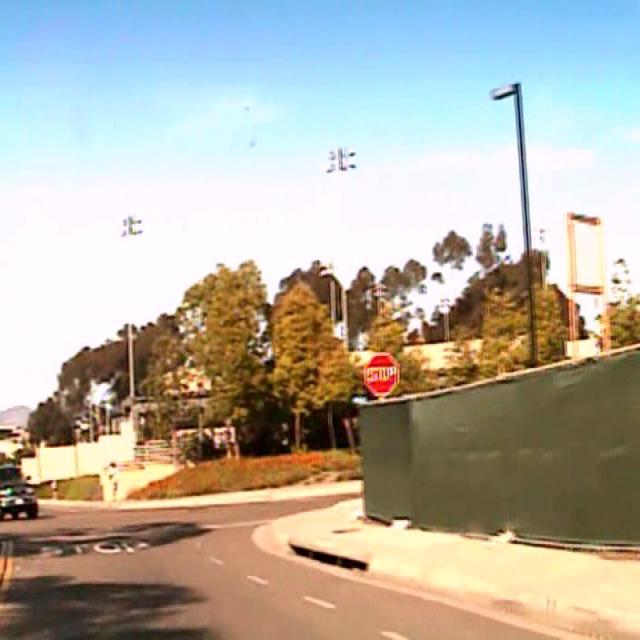stop_sign: (365, 352, 398, 396)
